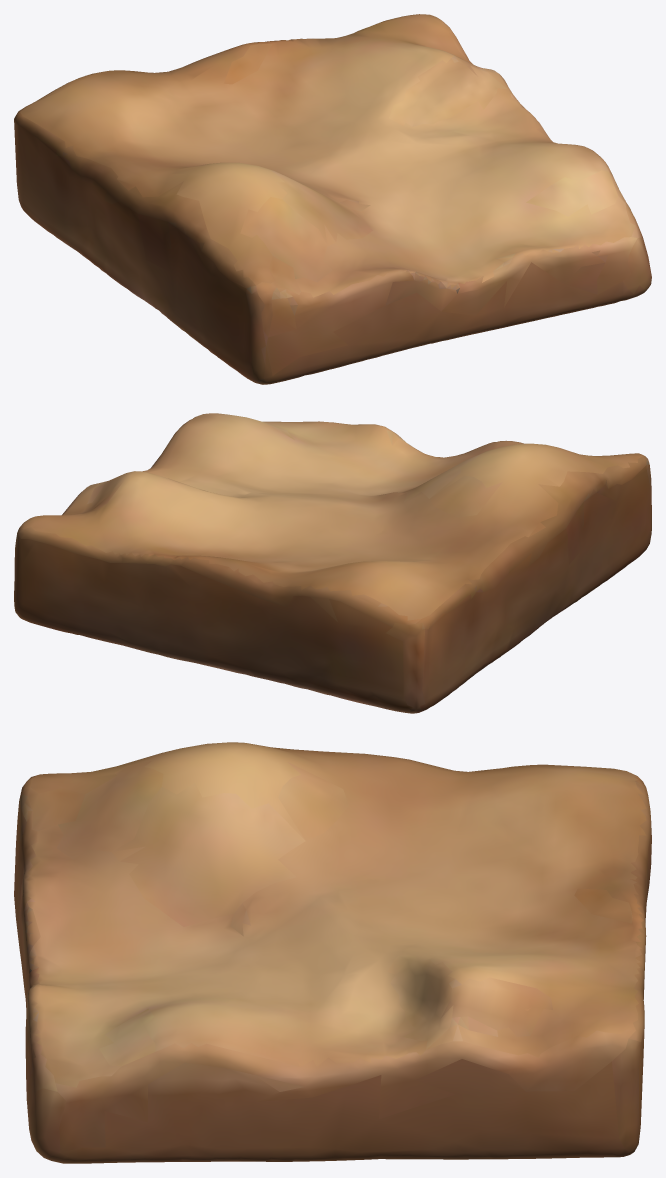
File: m13_areia.glb
3 renders of one model, top to bottom at view 1: azimuth 30°, elevation 25°; view 2: azimuth 150°, elevation 25°; view 3: azimuth 270°, elevation 25°, orthographic. The views are drawn at different scales.
Visible parts, largest first — view 1: m13_areia; view 2: m13_areia; view 3: m13_areia.
Part boxes in pixels (bbox=[...]): m13_areia: bbox=[14, 14, 651, 384]; m13_areia: bbox=[14, 413, 651, 713]; m13_areia: bbox=[14, 742, 651, 1163].
Bounding box in the file's own units: 1.03 × 0.3501 × 1.02.
Materials: 1 (1 with a texture image).
